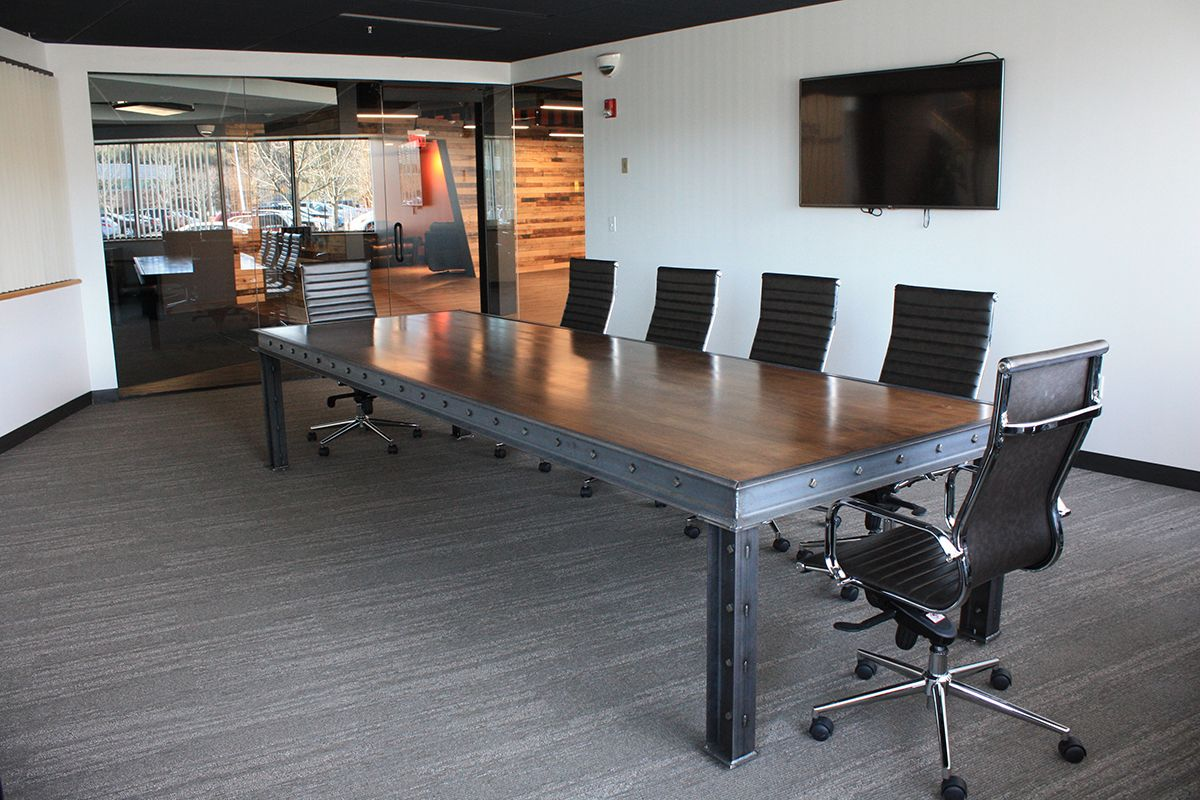conference_table: (249, 310, 991, 769)
